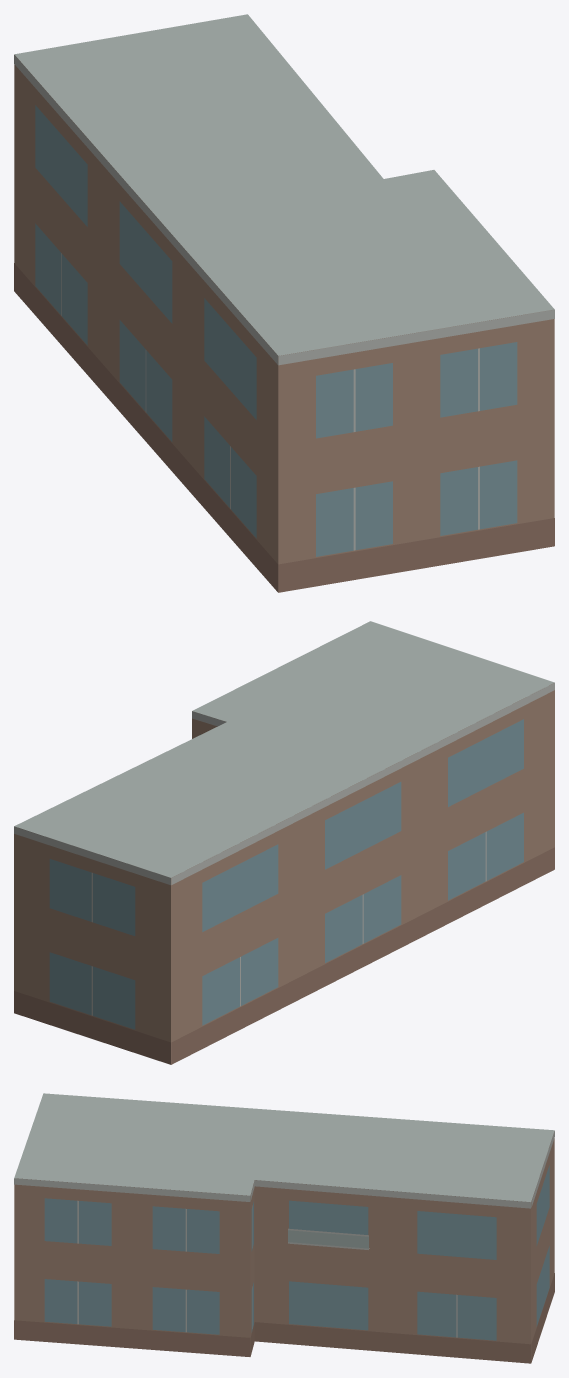
File: survey-upis-32516022.glb
3 views of the same model, one above another, from view 1: azimuth 30°, elevation 25°; view 2: azimuth 150°, elevation 25°; view 3: azimuth 270°, elevation 25° (orthographic). The views are drawn at different scales.
Parts seen in each view (by area): view 1: survey-upis-32516022.tmp; view 2: survey-upis-32516022.tmp; view 3: survey-upis-32516022.tmp.
Part boxes in pixels (x1,y1,x2,y2): survey-upis-32516022.tmp: [14, 14, 554, 592]; survey-upis-32516022.tmp: [14, 621, 554, 1064]; survey-upis-32516022.tmp: [14, 1093, 554, 1363].
Bounding box in the file's own units: 8.83 × 6.1 × 18.53.
